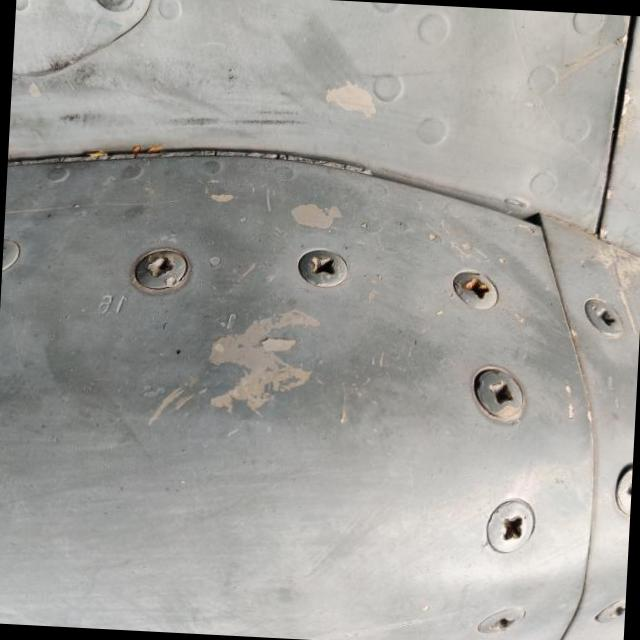Paint-off: (155, 308, 324, 420)
